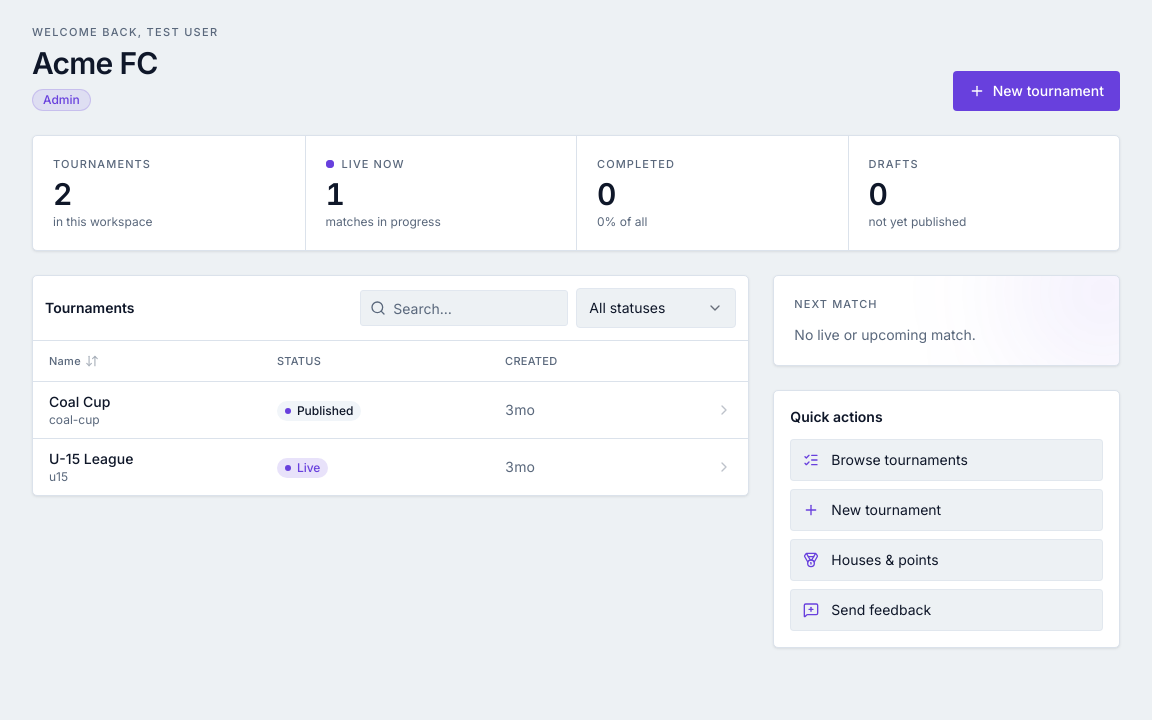
Test: OrgDashboardPage › opens the feedback modal from the quick action
Click the button "Send feedback" at (881, 609), box [790, 588, 1103, 630]
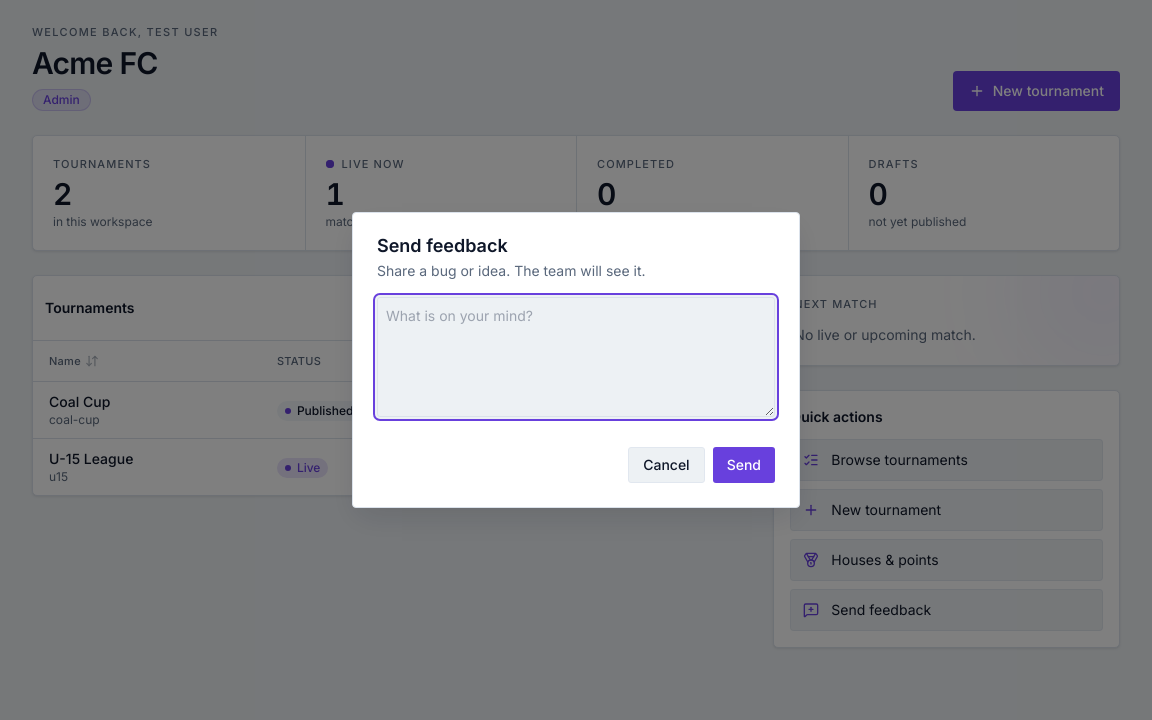
Check: the text box named "feedback message" is shown, box [377, 297, 775, 417]
